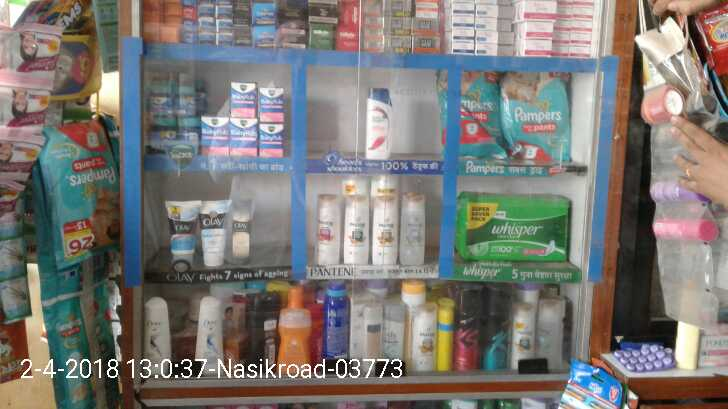vicks: (149, 73, 284, 158)
